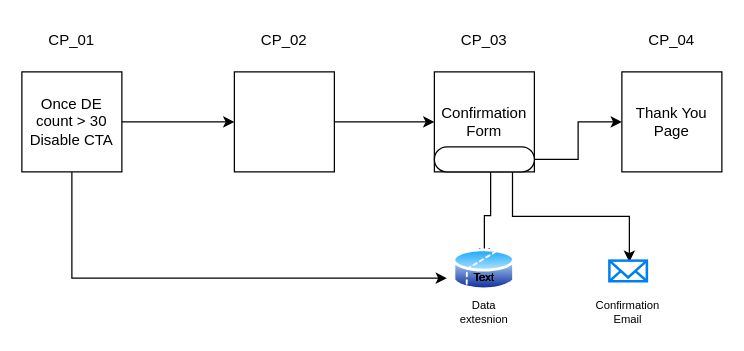
Image size: 744x351. Some labels were removed from this diagram. Here are the shapes that lost their labels. From the top down, the centre of each, then its label:
At (x=283, y=121): "Application Form".
At (x=483, y=159): "Submit".
